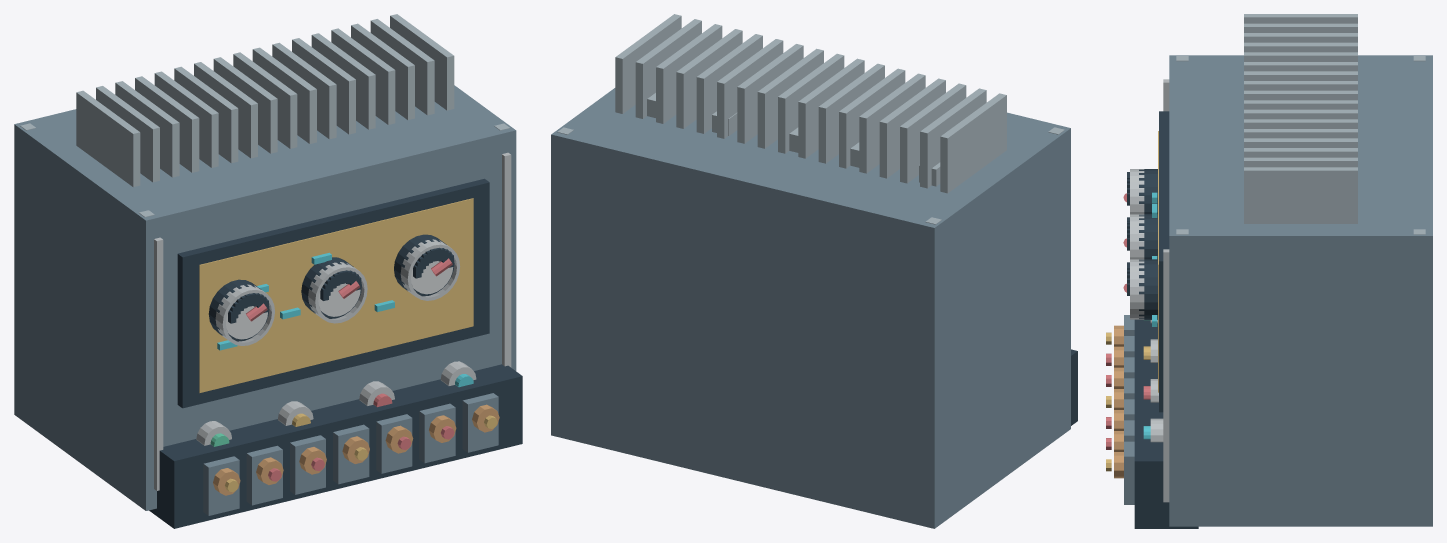
Rendered from 32_L73_MotorTorqueCurrentAnalyzer.glb.
The picture shows the model from 3 angles, left to right: view 1: azimuth 30°, elevation 25°; view 2: azimuth 150°, elevation 25°; view 3: azimuth 270°, elevation 25°; orthographic projection. The views are drawn at different scales.
Visible parts, largest first — view 1: MotorTorqueCurrentAnalyzer_Node_0000, MotorTorqueCurrentAnalyzer_Node_0008, MotorTorqueCurrentAnalyzer_Node_0038, MotorTorqueCurrentAnalyzer_Node_0007, MotorTorqueCurrentAnalyzer_Node_0060, MotorTorqueCurrentAnalyzer_Node_0005, MotorTorqueCurrentAnalyzer_Node_0006, MotorTorqueCurrentAnalyzer_Node_0068, MotorTorqueCurrentAnalyzer_Node_0073, MotorTorqueCurrentAnalyzer_Node_0063, MotorTorqueCurrentAnalyzer_Node_0065, MotorTorqueCurrentAnalyzer_Node_0076 (+27 smaller); view 2: MotorTorqueCurrentAnalyzer_Node_0000, MotorTorqueCurrentAnalyzer_Node_0060, MotorTorqueCurrentAnalyzer_Node_0064, MotorTorqueCurrentAnalyzer_Node_0066, MotorTorqueCurrentAnalyzer_Node_0063, MotorTorqueCurrentAnalyzer_Node_0069, MotorTorqueCurrentAnalyzer_Node_0070, MotorTorqueCurrentAnalyzer_Node_0073, MotorTorqueCurrentAnalyzer_Node_0074, MotorTorqueCurrentAnalyzer_Node_0076, MotorTorqueCurrentAnalyzer_Node_0067, MotorTorqueCurrentAnalyzer_Node_0062 (+6 smaller); view 3: MotorTorqueCurrentAnalyzer_Node_0000, MotorTorqueCurrentAnalyzer_Node_0076, MotorTorqueCurrentAnalyzer_Node_0038, MotorTorqueCurrentAnalyzer_Node_0007, MotorTorqueCurrentAnalyzer_Node_0006, MotorTorqueCurrentAnalyzer_Node_0063, MotorTorqueCurrentAnalyzer_Node_0068, MotorTorqueCurrentAnalyzer_Node_0070, MotorTorqueCurrentAnalyzer_Node_0075, MotorTorqueCurrentAnalyzer_Node_0060, MotorTorqueCurrentAnalyzer_Node_0061, MotorTorqueCurrentAnalyzer_Node_0062 (+16 smaller).
Boxes of the visible parts, bbox=[...] form: MotorTorqueCurrentAnalyzer_Node_0000: bbox=[14, 85, 516, 510]; MotorTorqueCurrentAnalyzer_Node_0008: bbox=[199, 198, 473, 392]; MotorTorqueCurrentAnalyzer_Node_0038: bbox=[149, 364, 522, 528]; MotorTorqueCurrentAnalyzer_Node_0007: bbox=[177, 178, 489, 408]; MotorTorqueCurrentAnalyzer_Node_0060: bbox=[76, 90, 140, 187]; MotorTorqueCurrentAnalyzer_Node_0005: bbox=[154, 237, 163, 490]; MotorTorqueCurrentAnalyzer_Node_0006: bbox=[502, 152, 511, 367]; MotorTorqueCurrentAnalyzer_Node_0068: bbox=[233, 52, 297, 148]; MotorTorqueCurrentAnalyzer_Node_0073: bbox=[331, 28, 395, 124]; MotorTorqueCurrentAnalyzer_Node_0063: bbox=[135, 76, 199, 172]; MotorTorqueCurrentAnalyzer_Node_0065: bbox=[174, 66, 238, 163]; MotorTorqueCurrentAnalyzer_Node_0076: bbox=[390, 14, 454, 110]; MotorTorqueCurrentAnalyzer_Node_0000: bbox=[551, 88, 1070, 528]; MotorTorqueCurrentAnalyzer_Node_0060: bbox=[940, 93, 1006, 193]; MotorTorqueCurrentAnalyzer_Node_0064: bbox=[859, 73, 925, 173]; MotorTorqueCurrentAnalyzer_Node_0066: bbox=[818, 63, 884, 163]; MotorTorqueCurrentAnalyzer_Node_0063: bbox=[879, 78, 945, 178]; MotorTorqueCurrentAnalyzer_Node_0069: bbox=[757, 48, 823, 148]; MotorTorqueCurrentAnalyzer_Node_0070: bbox=[737, 44, 803, 143]; MotorTorqueCurrentAnalyzer_Node_0073: bbox=[676, 29, 742, 128]; MotorTorqueCurrentAnalyzer_Node_0074: bbox=[656, 24, 722, 123]; MotorTorqueCurrentAnalyzer_Node_0076: bbox=[615, 14, 681, 113]; MotorTorqueCurrentAnalyzer_Node_0067: bbox=[798, 58, 864, 158]; MotorTorqueCurrentAnalyzer_Node_0062: bbox=[900, 83, 966, 183]; MotorTorqueCurrentAnalyzer_Node_0000: bbox=[1169, 55, 1432, 526]; MotorTorqueCurrentAnalyzer_Node_0076: bbox=[1244, 167, 1357, 223]; MotorTorqueCurrentAnalyzer_Node_0038: bbox=[1134, 319, 1198, 528]; MotorTorqueCurrentAnalyzer_Node_0007: bbox=[1159, 111, 1169, 412]; MotorTorqueCurrentAnalyzer_Node_0006: bbox=[1163, 249, 1169, 502]; MotorTorqueCurrentAnalyzer_Node_0063: bbox=[1244, 42, 1357, 52]; MotorTorqueCurrentAnalyzer_Node_0068: bbox=[1244, 90, 1357, 100]; MotorTorqueCurrentAnalyzer_Node_0070: bbox=[1244, 109, 1357, 119]; MotorTorqueCurrentAnalyzer_Node_0075: bbox=[1244, 157, 1357, 167]; MotorTorqueCurrentAnalyzer_Node_0060: bbox=[1244, 14, 1357, 23]; MotorTorqueCurrentAnalyzer_Node_0061: bbox=[1244, 23, 1357, 32]; MotorTorqueCurrentAnalyzer_Node_0062: bbox=[1244, 33, 1357, 42].
Bounding box in the file's own units: 1.2 × 1.09 × 0.9174.
